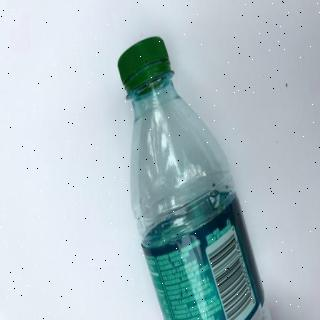Plastic-bottle: (115, 31, 276, 320)
